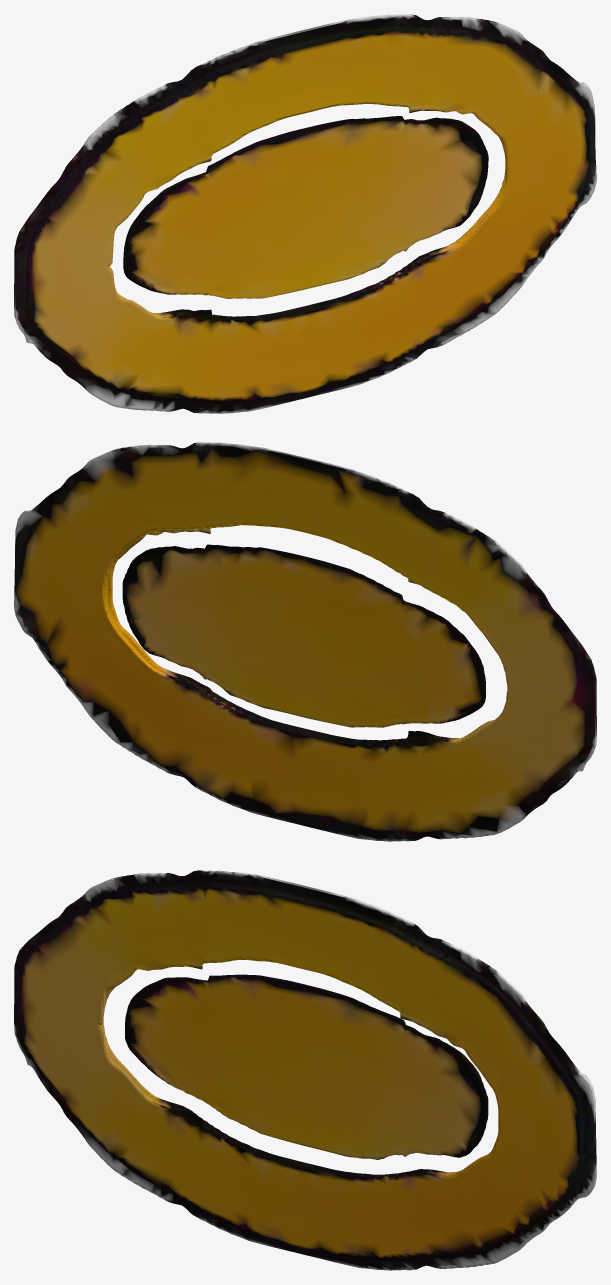
The model's file is platter1_cop.glb.
3 views of the same model, one above another, from view 1: azimuth 30°, elevation 25°; view 2: azimuth 150°, elevation 25°; view 3: azimuth 330°, elevation 25° (orthographic).
Parts seen in each view (by area): view 1: geometry_0; view 2: geometry_0; view 3: geometry_0.
Boxes of the visible parts, x1=… form: geometry_0: x1=14, y1=14, x2=596, y2=413; geometry_0: x1=14, y1=442, x2=596, y2=841; geometry_0: x1=14, y1=870, x2=596, y2=1270.
Bounding box in the file's own units: 0.875 × 0.5282 × 0.0176.
